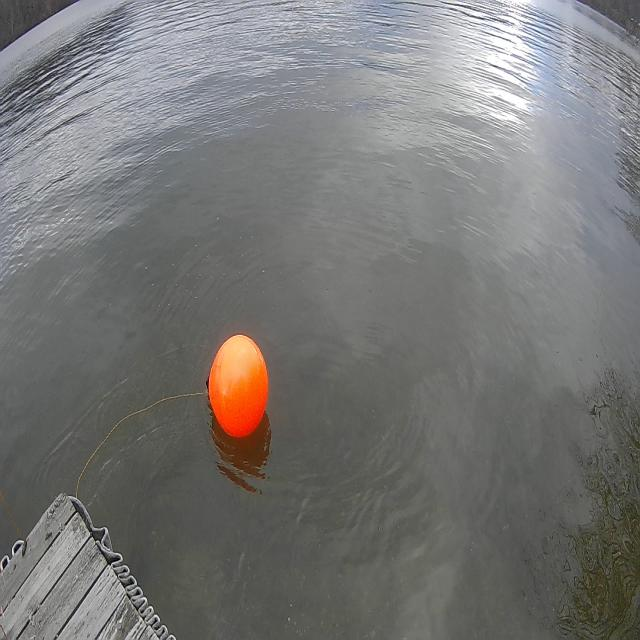Buoy: (208, 332, 270, 445)
